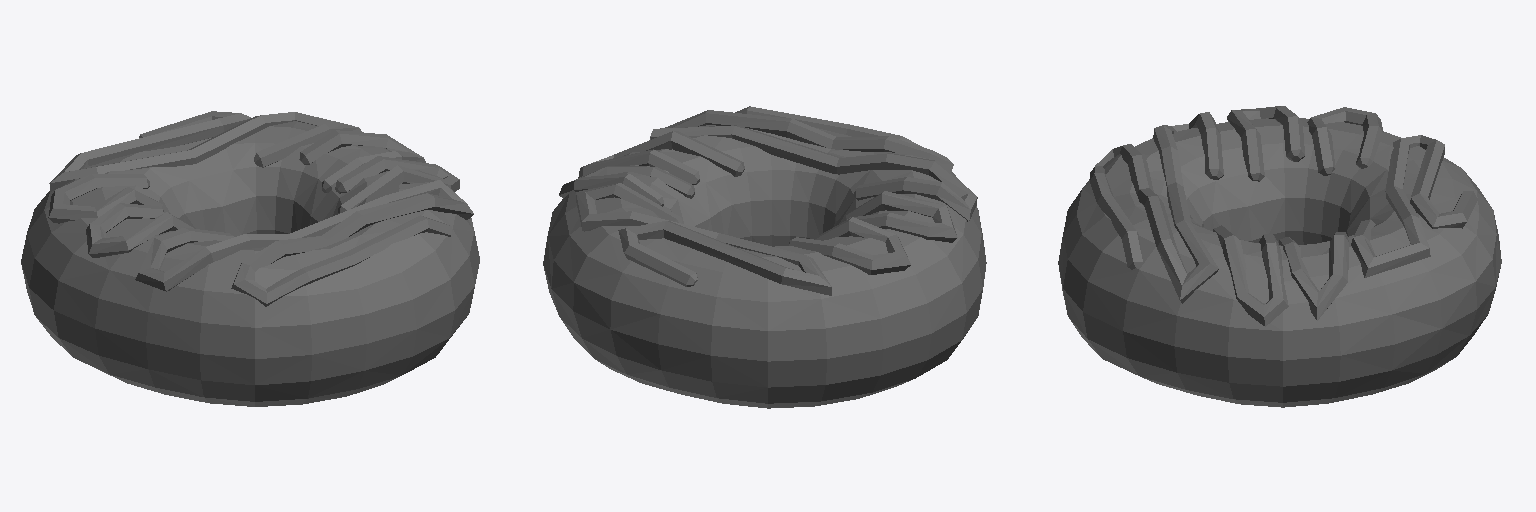
The model's file is donutPlain.obj.
3 renders of one model, left to right at view 1: azimuth 30°, elevation 25°; view 2: azimuth 150°, elevation 25°; view 3: azimuth 270°, elevation 25°, orthographic.
Visible parts, largest first — view 1: donut_10_1; view 2: donut_10_1; view 3: donut_10_1.
Boxes of the visible parts, box(x1,y1,x2,y2) form: donut_10_1: box(21, 111, 479, 406); donut_10_1: box(543, 106, 986, 408); donut_10_1: box(1058, 106, 1501, 407).
Size of the model in its own units: 1.53 by 0.5808 by 1.46.